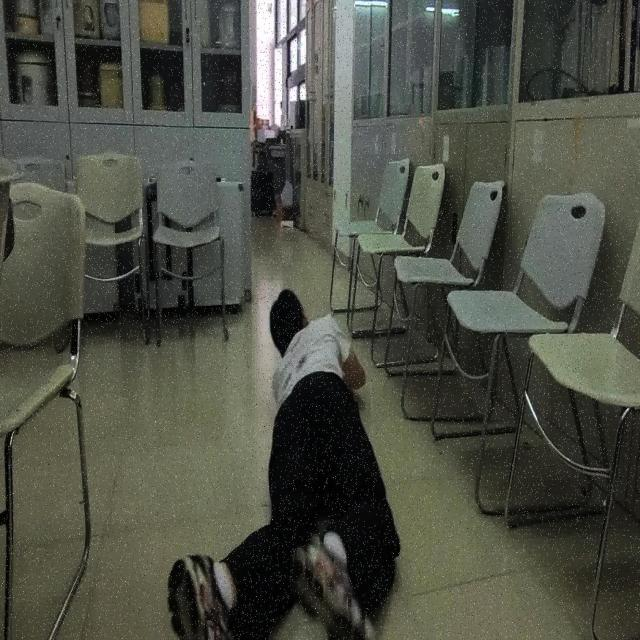fall: (164, 284, 405, 640)
